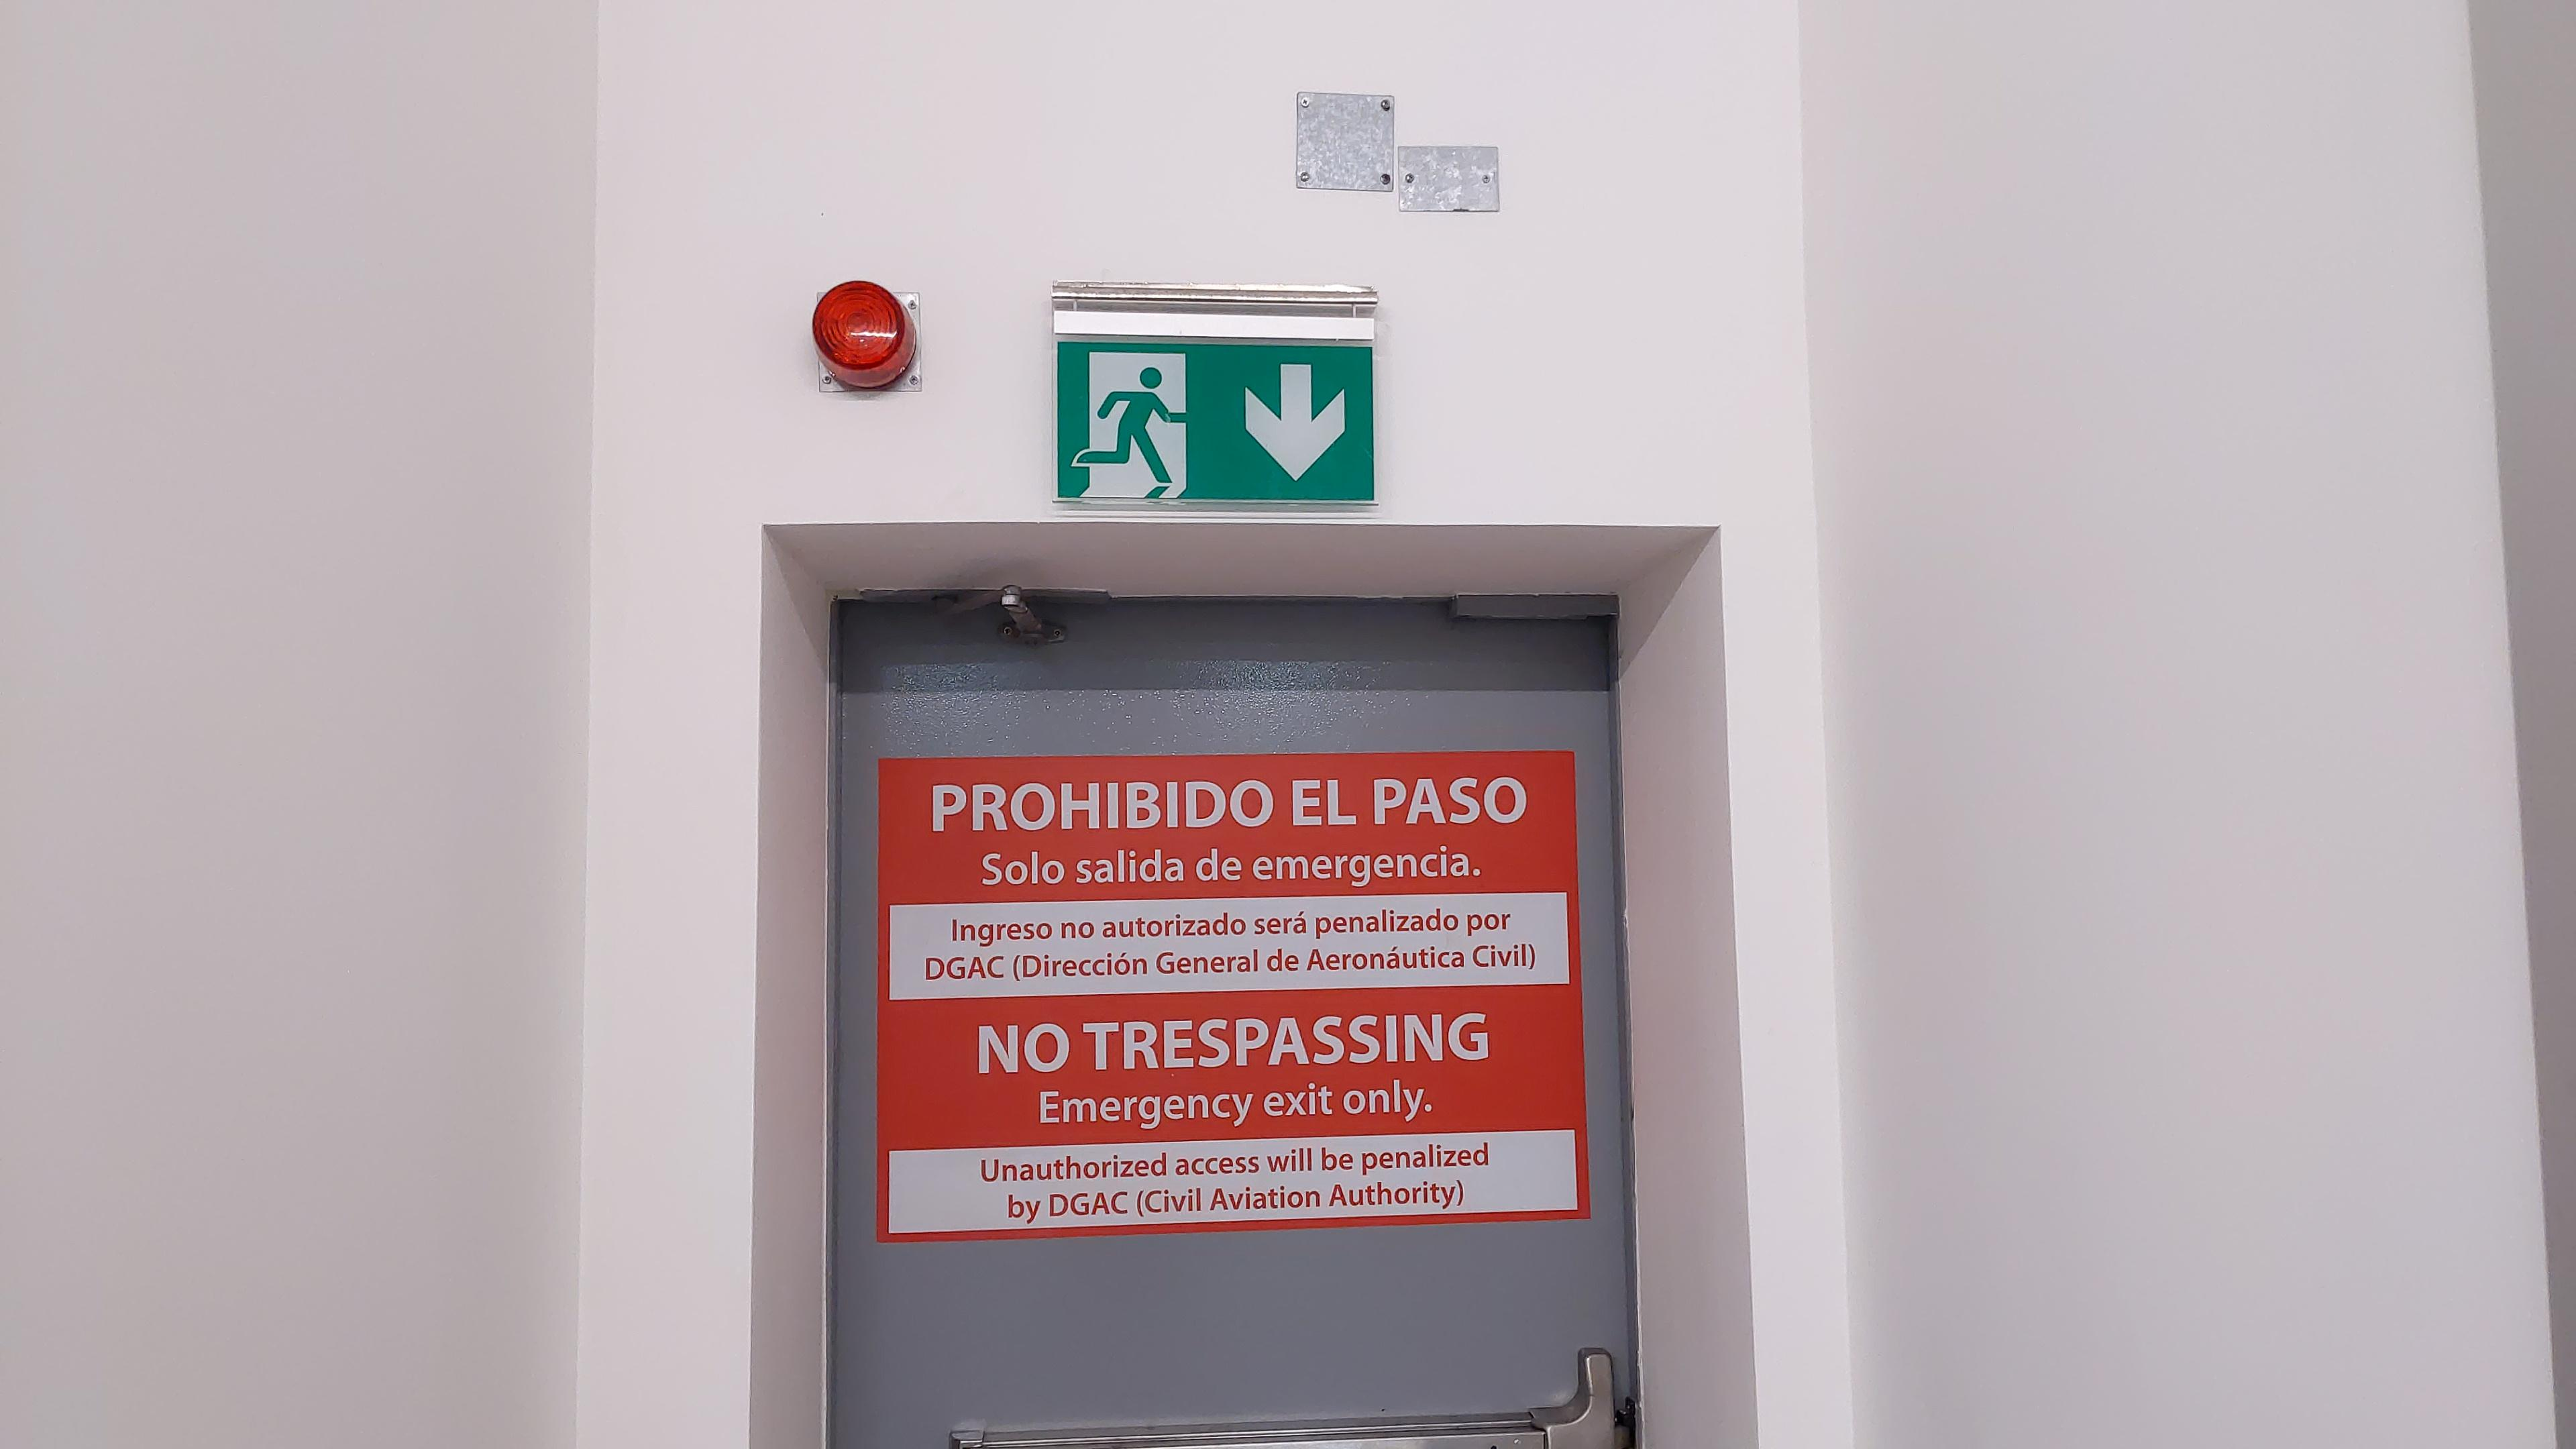emergency down arrow: (1240, 354, 1353, 490)
emergency exit: (1069, 347, 1194, 502)
no trespassing: (881, 763, 1578, 1217)
